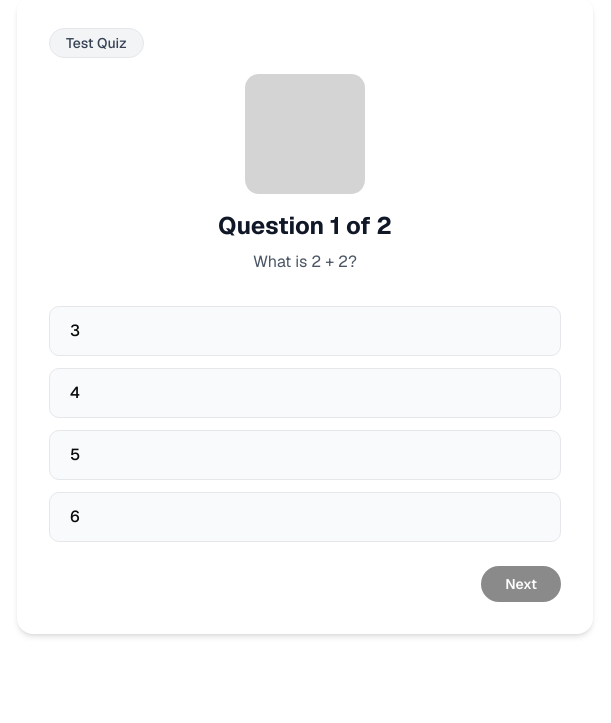
Scenario: QuizClient › allows selecting an answer
The width and height of the screenshot is (611, 723).
Click the button "3": x=75, y=330 [49,306,561,356]
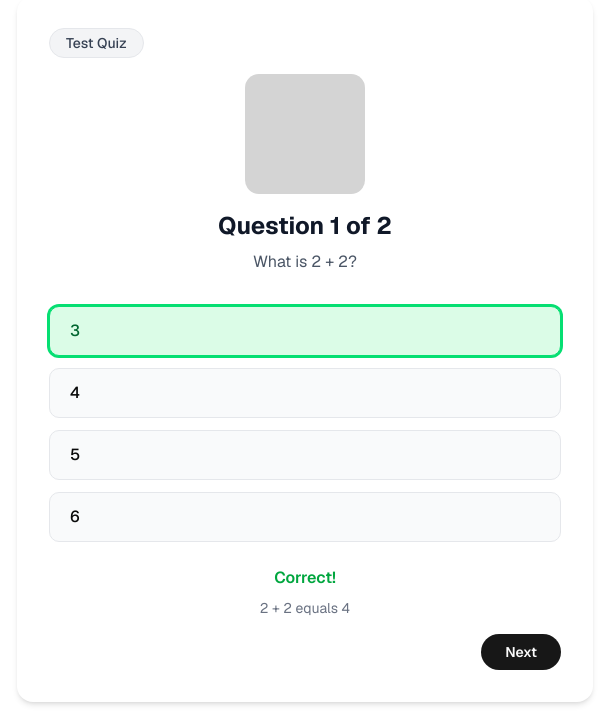
expect the text "Correct!" is shown: met, box [274,567,336,588]
